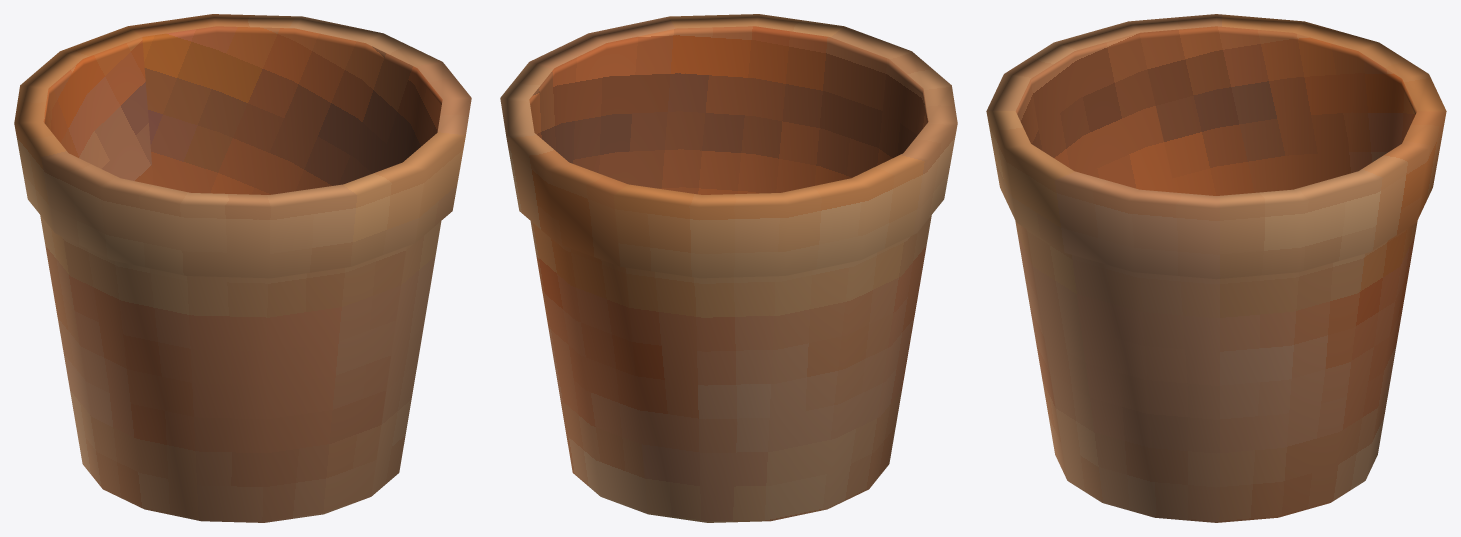
The model's file is objects_un_t01flowerpots06.gltf.
The picture shows the model from 3 angles, left to right: view 1: azimuth 30°, elevation 25°; view 2: azimuth 150°, elevation 25°; view 3: azimuth 270°, elevation 25°; orthographic projection.
Visible parts, largest first — view 1: objects_un_t01flowerpots06_mesh_shape:objects_un_t01flowerpo; view 2: objects_un_t01flowerpots06_mesh_shape:objects_un_t01flowerpo; view 3: objects_un_t01flowerpots06_mesh_shape:objects_un_t01flowerpo.
Part boxes in pixels (bbox=[...]): objects_un_t01flowerpots06_mesh_shape:objects_un_t01flowerpo: bbox=[14, 14, 471, 522]; objects_un_t01flowerpots06_mesh_shape:objects_un_t01flowerpo: bbox=[500, 14, 957, 522]; objects_un_t01flowerpots06_mesh_shape:objects_un_t01flowerpo: bbox=[986, 14, 1446, 522].
Size of what is drawn, in the model's own units: 0.2792 by 0.23 by 0.2792.
Materials: 1 (1 with a texture image).
